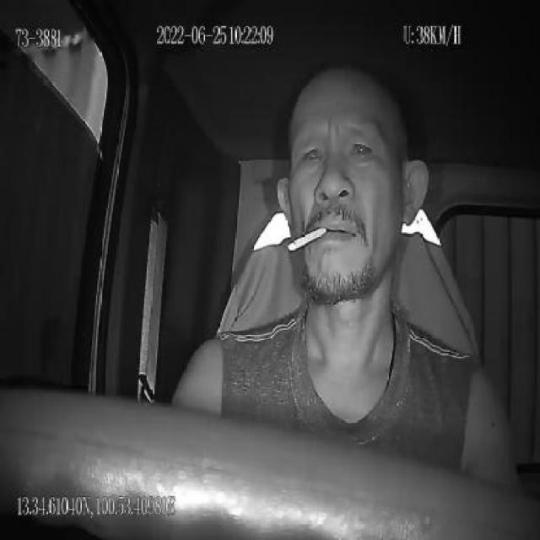smoking: (287, 226, 328, 254)
